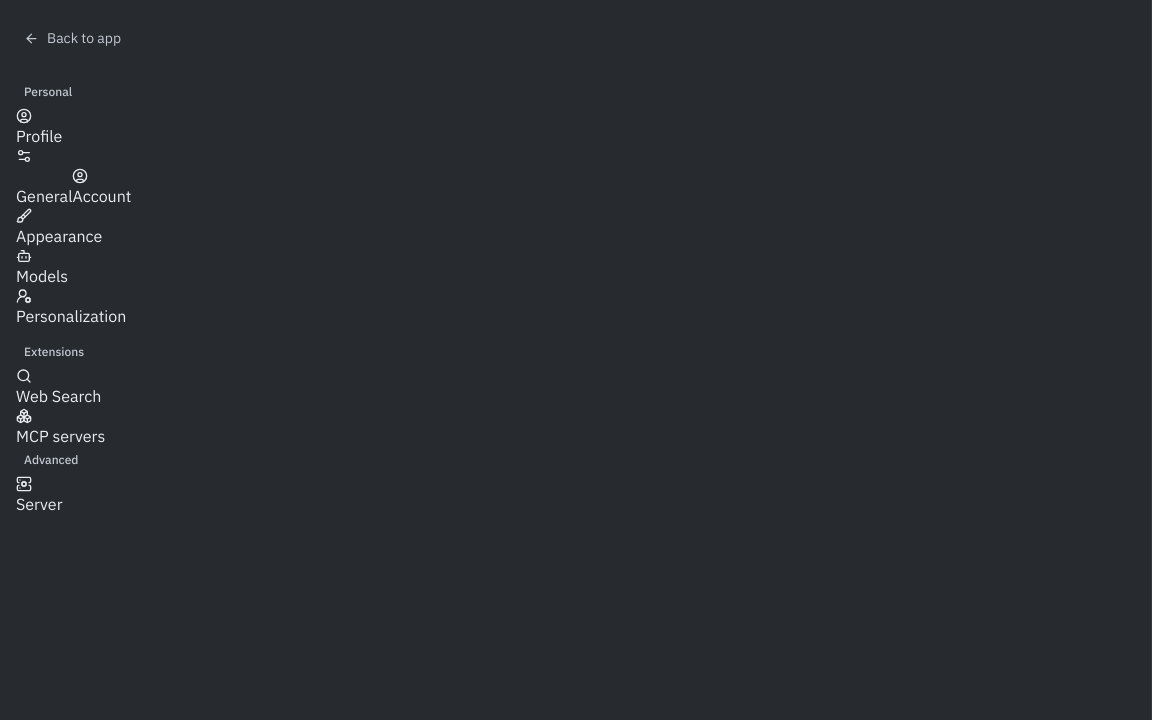
SettingsNavigation › shows an error and closes the prepared window when Cloud account cannot open
Click the button "Account" at (102, 188), box [72,168,131,208]
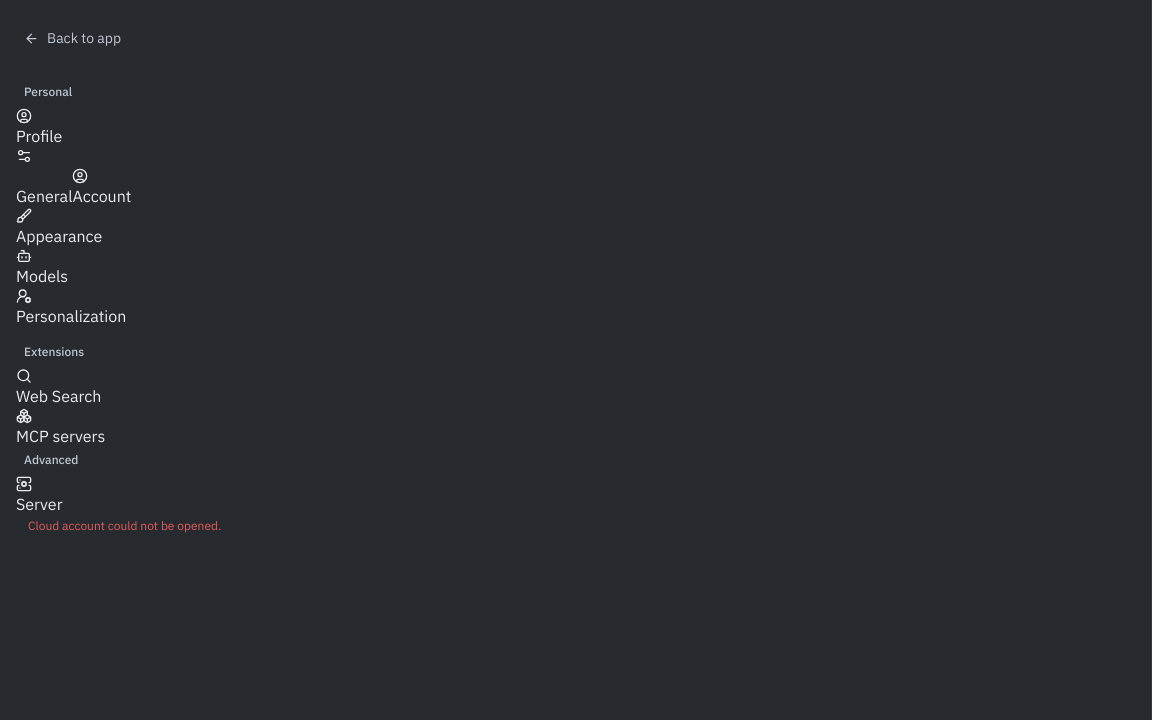
Expected: the message reads "Cloud account could not be opened.", [28,518,221,533]
